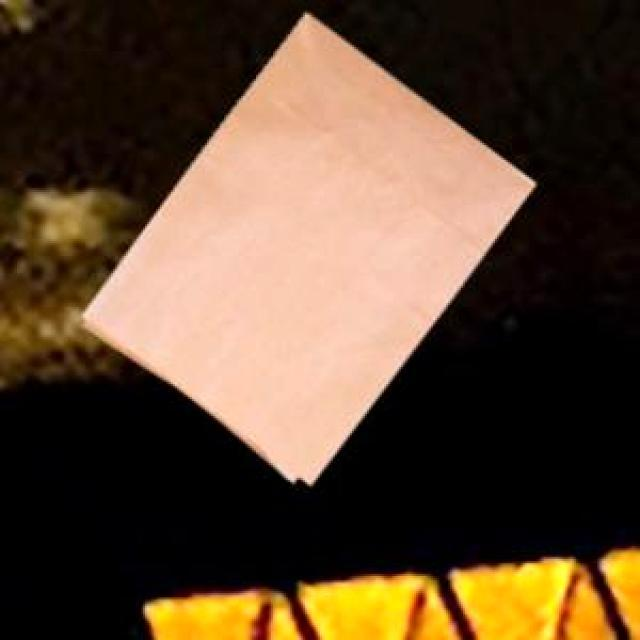Paper_Bag: (80, 11, 532, 482)
